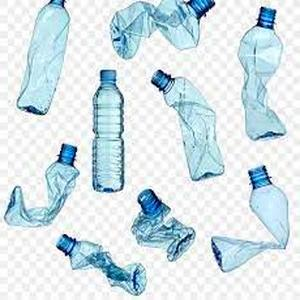Plastic: (150, 70, 227, 182), (210, 164, 289, 273), (14, 0, 75, 117), (238, 5, 286, 146), (0, 142, 78, 227), (108, 0, 217, 60), (48, 234, 148, 297), (129, 188, 198, 264), (90, 67, 128, 194)
